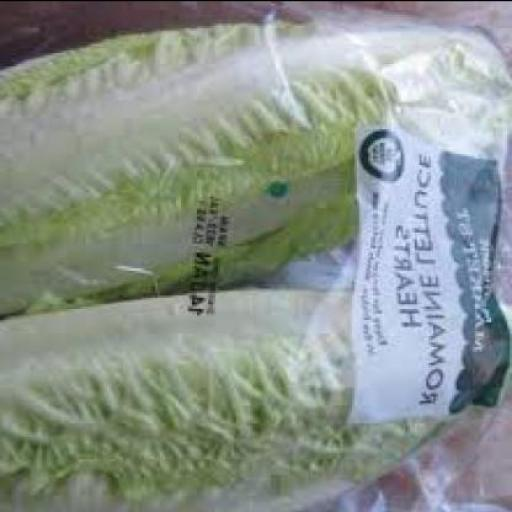biodegradable: (2, 20, 399, 250), (2, 298, 426, 490), (2, 162, 392, 303)
